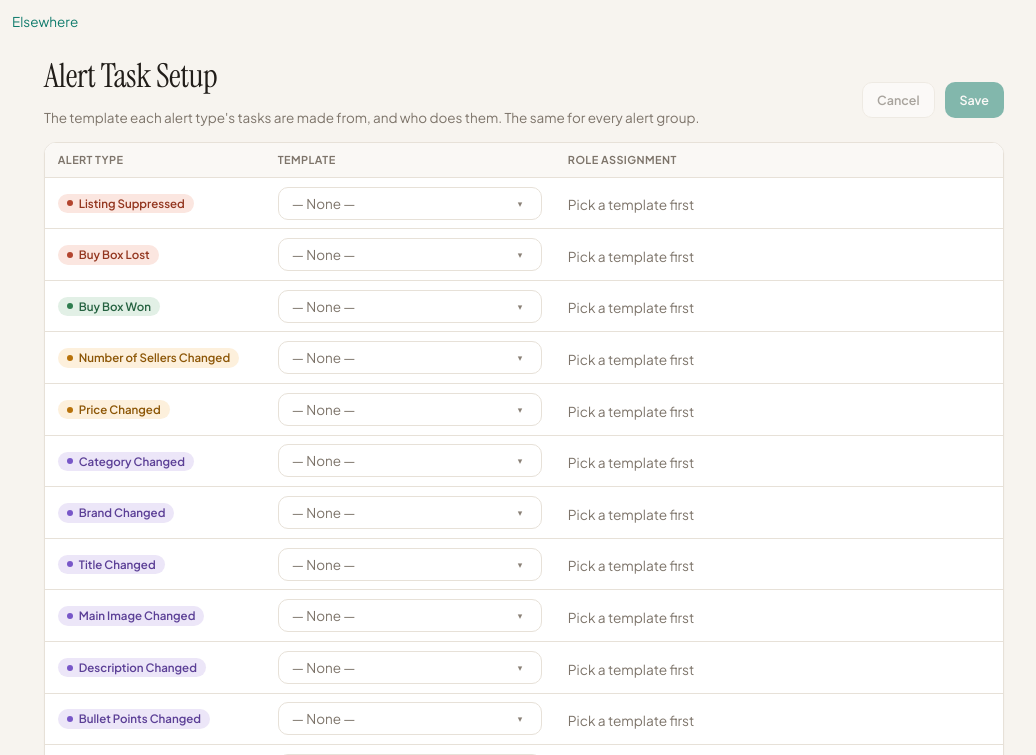
ExclusivesAlertTasksPage › offers every template by name, with "— None —" first
Click the button with aria-label "Template for Buy Box Lost:": coordinates (324, 255) left=278, top=238, right=542, bottom=271
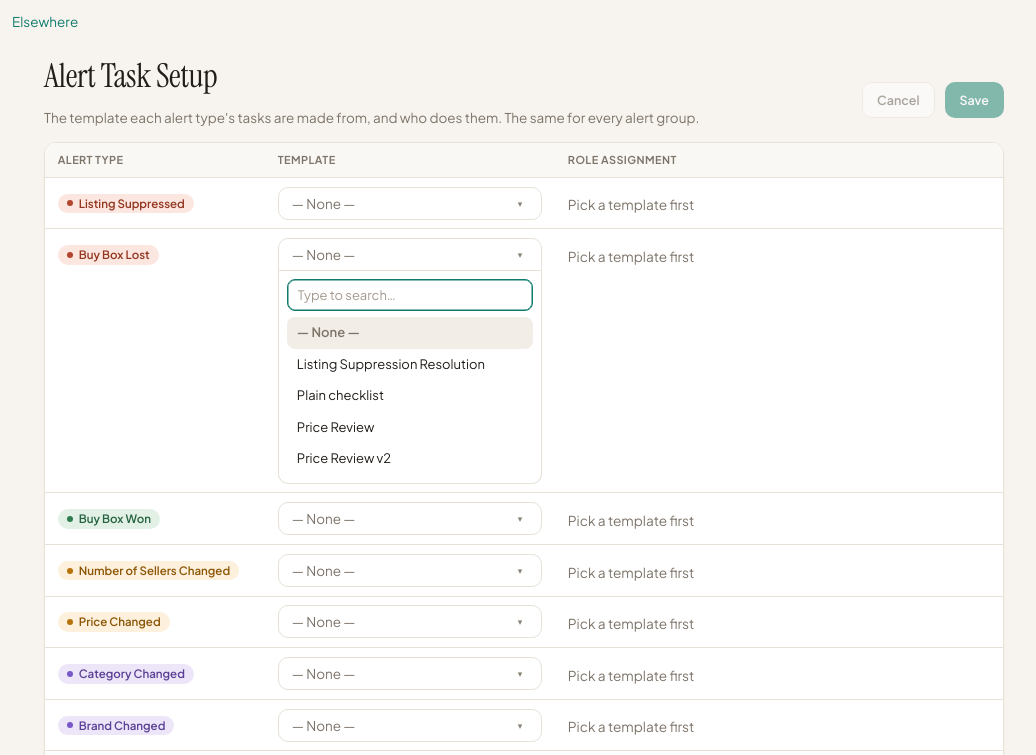
Result: the options read "— None —", "Listing Suppression Resolution", "Plain checklist", "Price Review", "Price Review v2", in this order at left=287, top=317, right=533, bottom=349; left=297, top=356, right=485, bottom=372; left=297, top=387, right=384, bottom=403; left=297, top=419, right=374, bottom=435; left=297, top=450, right=391, bottom=466
